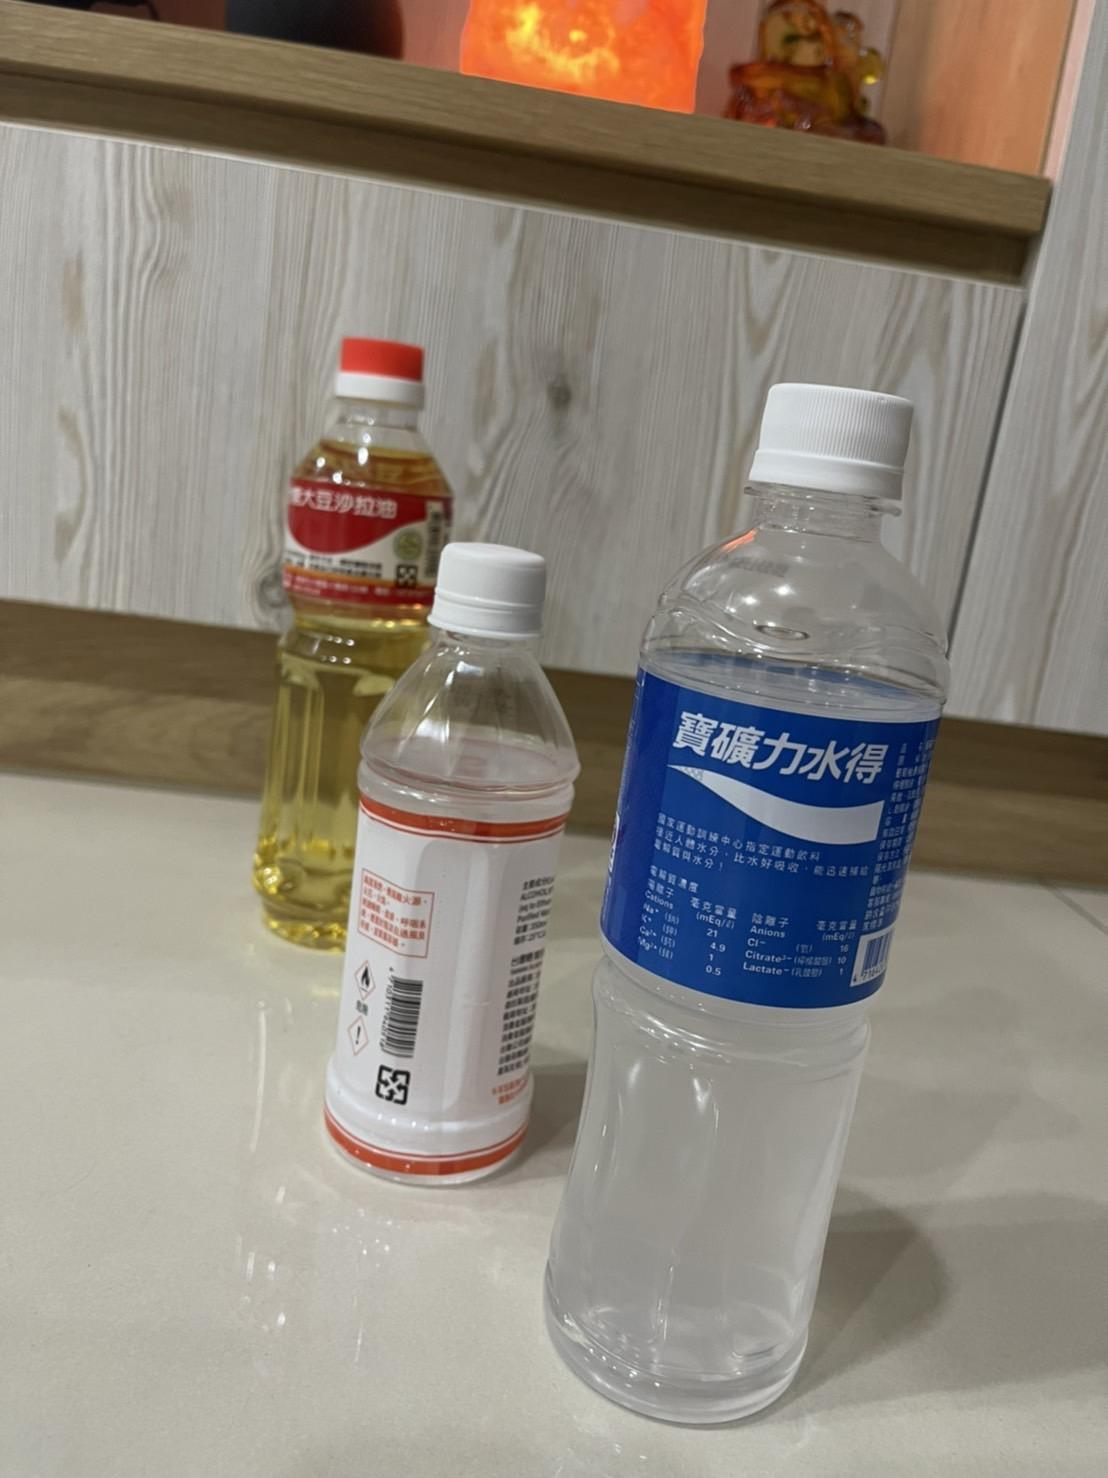plastic_bottle: (547, 379, 971, 1434), (312, 546, 581, 1184), (251, 334, 453, 951)
